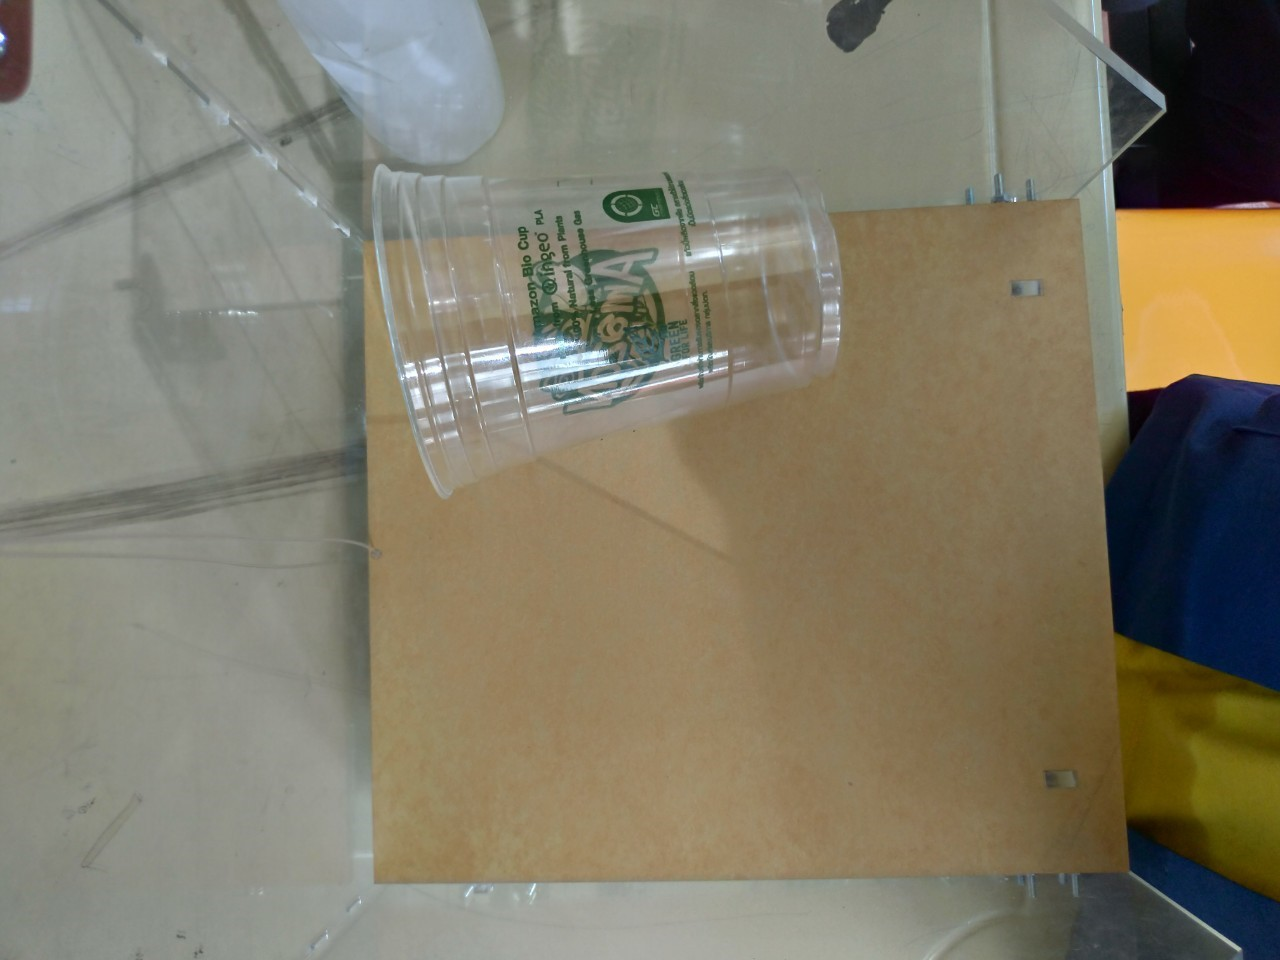PlasticCup: (371, 165, 846, 500)
